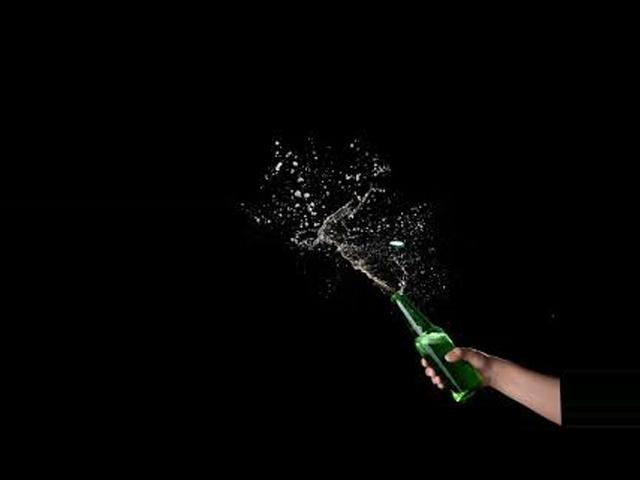beer: (392, 290, 485, 404)
